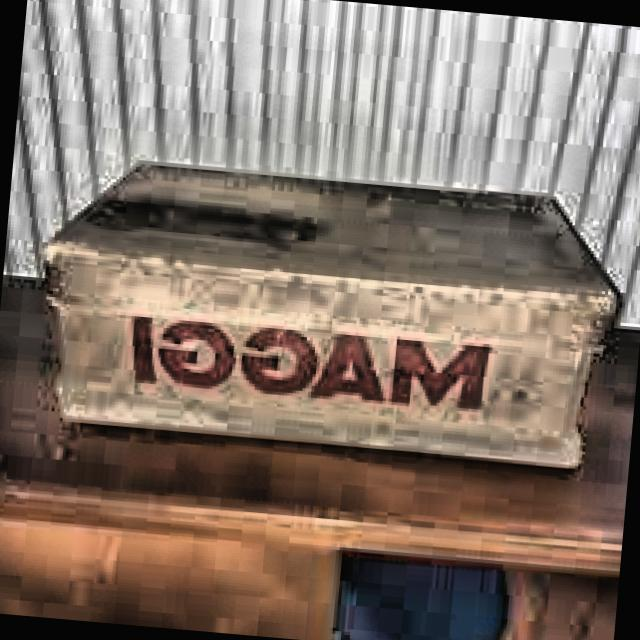cardboard: (29, 146, 631, 472)
